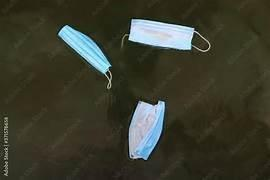Mask: (58, 25, 111, 88), (121, 19, 210, 51), (129, 101, 164, 159)
